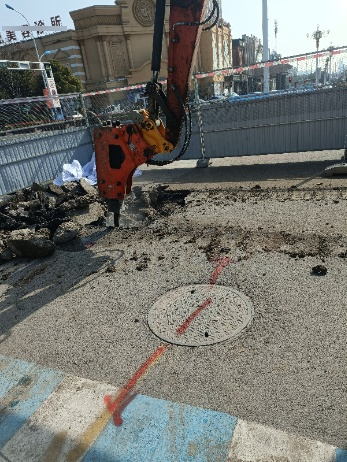well: (144, 282, 255, 346)
